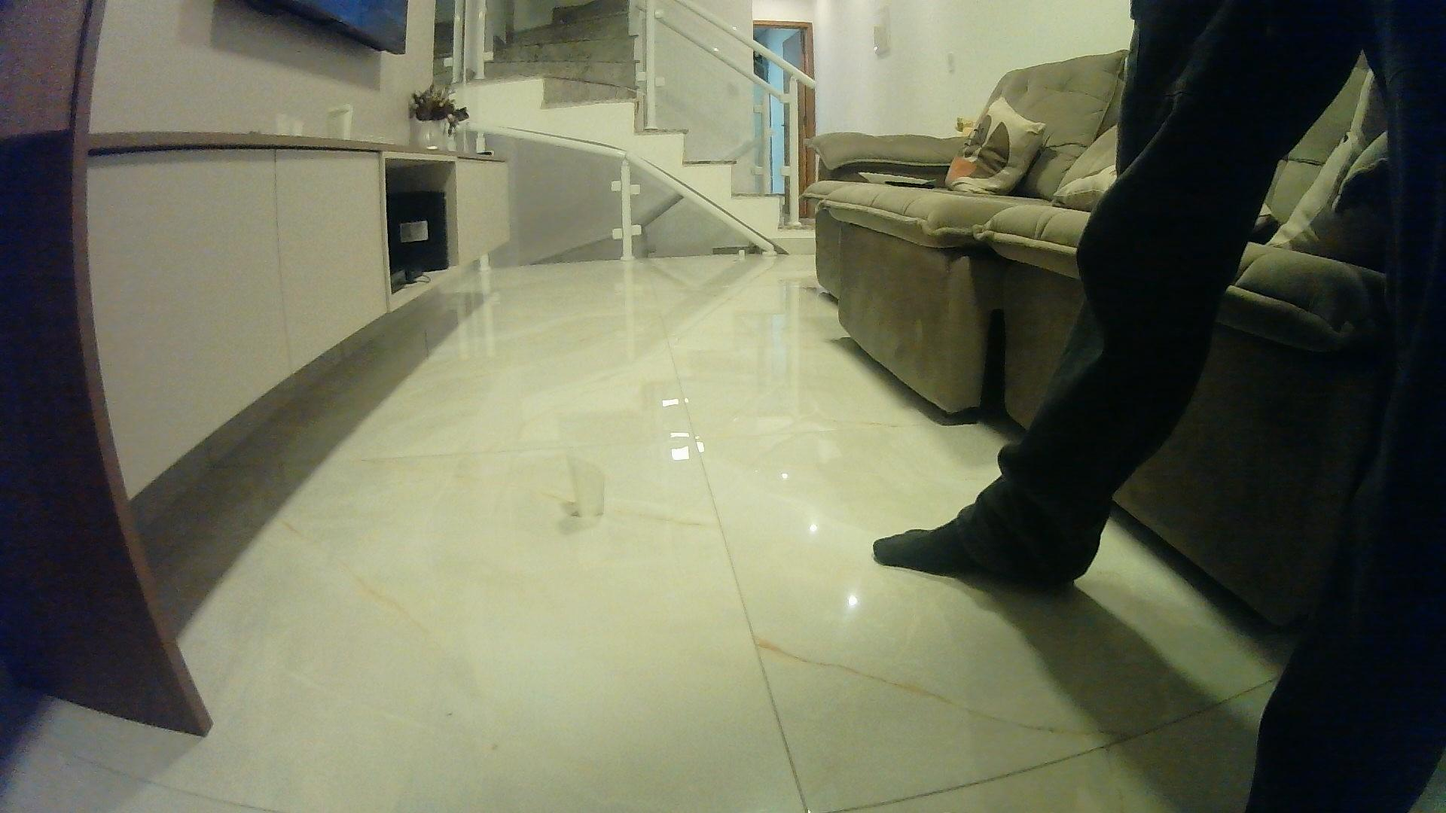erva_daninha: (565, 455, 613, 522), (265, 108, 309, 137)
